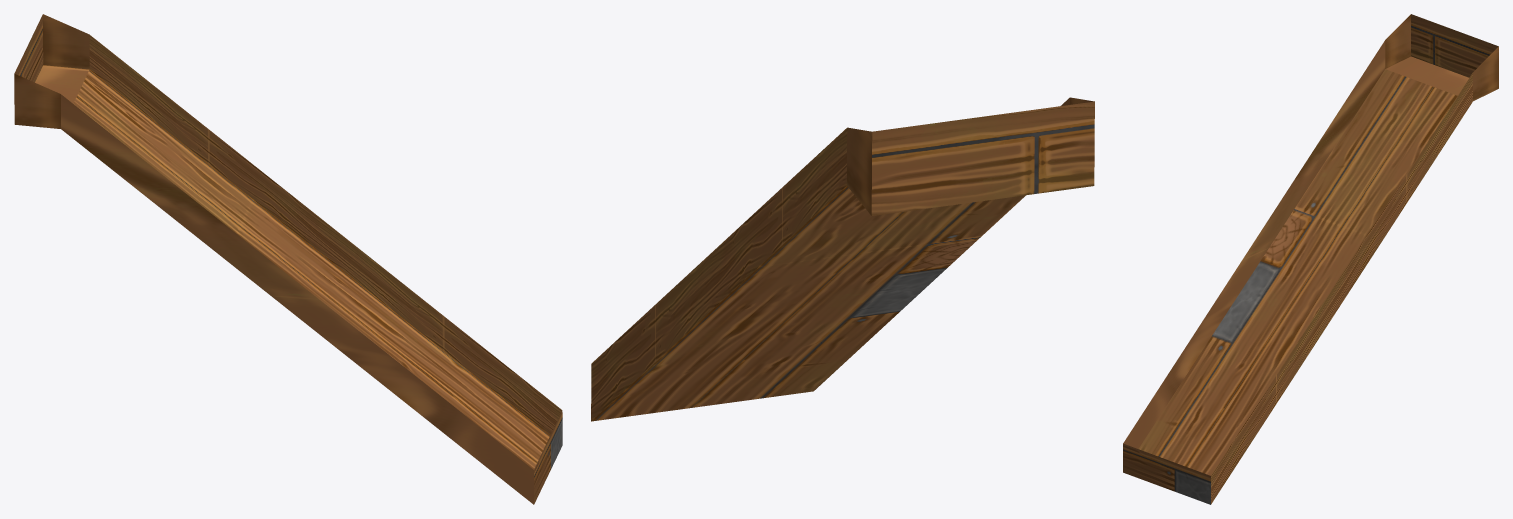
3 views of the same model, side by side, from view 1: azimuth 30°, elevation 25°; view 2: azimuth 150°, elevation 25°; view 3: azimuth 270°, elevation 25° (orthographic). The views are drawn at different scales.
Parts seen in each view (by area): view 1: Cube.1902; view 2: Cube.1902; view 3: Cube.1902.
Boxes of the visible parts, bbox=[...] form: Cube.1902: bbox=[14, 14, 562, 504]; Cube.1902: bbox=[591, 97, 1094, 421]; Cube.1902: bbox=[1123, 14, 1498, 504].
Bounding box in the file's own units: 739 × 642 × 683.
Materials: 1 (1 with a texture image).
